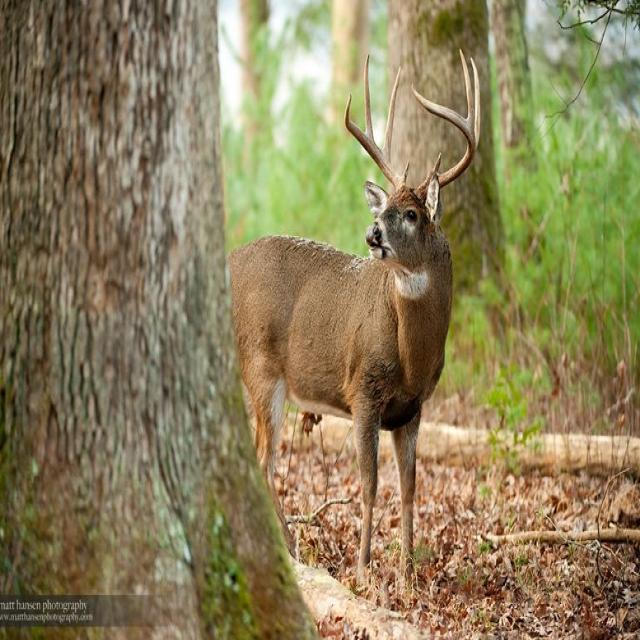L-G1: (428, 152, 442, 177)
L-G2: (470, 55, 480, 149)
L-G3: (459, 48, 474, 133)
R-F: (344, 93, 406, 192)
R-G1: (400, 160, 410, 185)
R-G2: (382, 66, 401, 163)
R-G3: (364, 52, 374, 140)
